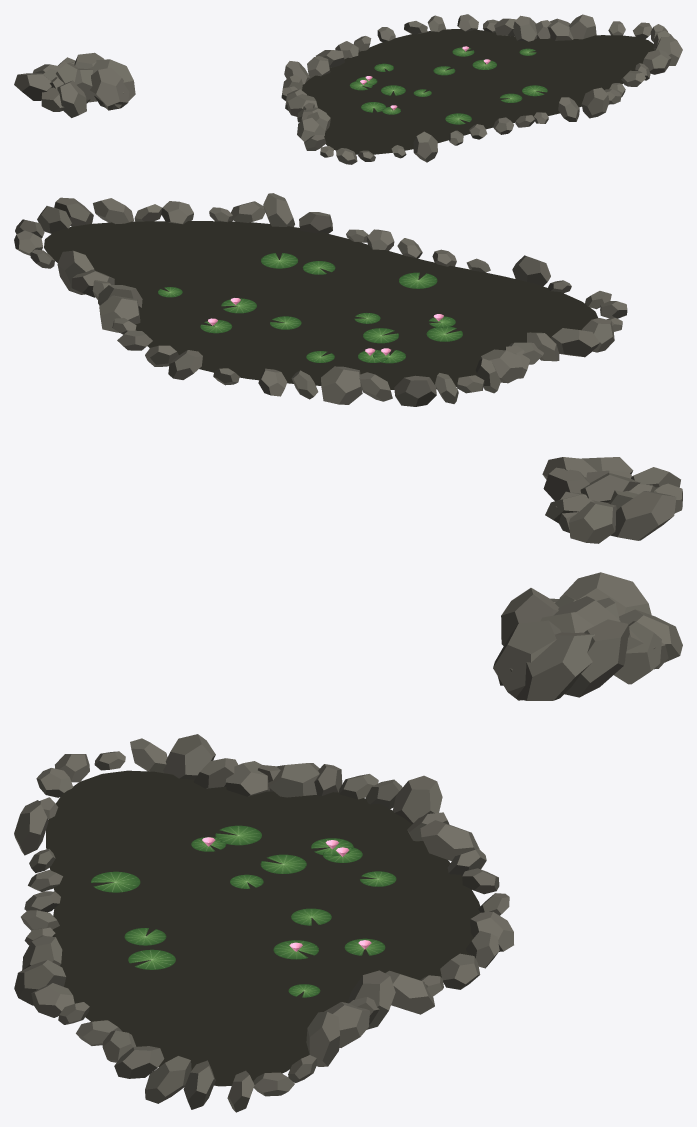
The model's file is pond-and-stream.glb.
3 views of the same model, one above another, from view 1: azimuth 30°, elevation 25°; view 2: azimuth 150°, elevation 25°; view 3: azimuth 270°, elevation 25° (orthographic). The views are drawn at different scales.
Visible parts, largest first — view 1: pond-and-stream_MeshStandardMaterial (×3); view 2: pond-and-stream_MeshStandardMaterial (×3); view 3: pond-and-stream_MeshStandardMaterial (×3).
Boxes of the visible parts, left/top/right/bottom form: pond-and-stream_MeshStandardMaterial (×3): left=14, top=14, right=682, bottom=164; pond-and-stream_MeshStandardMaterial (×3): left=14, top=193, right=682, bottom=543; pond-and-stream_MeshStandardMaterial (×3): left=14, top=572, right=682, bottom=1112.
Size of the model in its own units: 18.84 by 1.28 by 10.72.
Materials: 6 (1 with a texture image).
